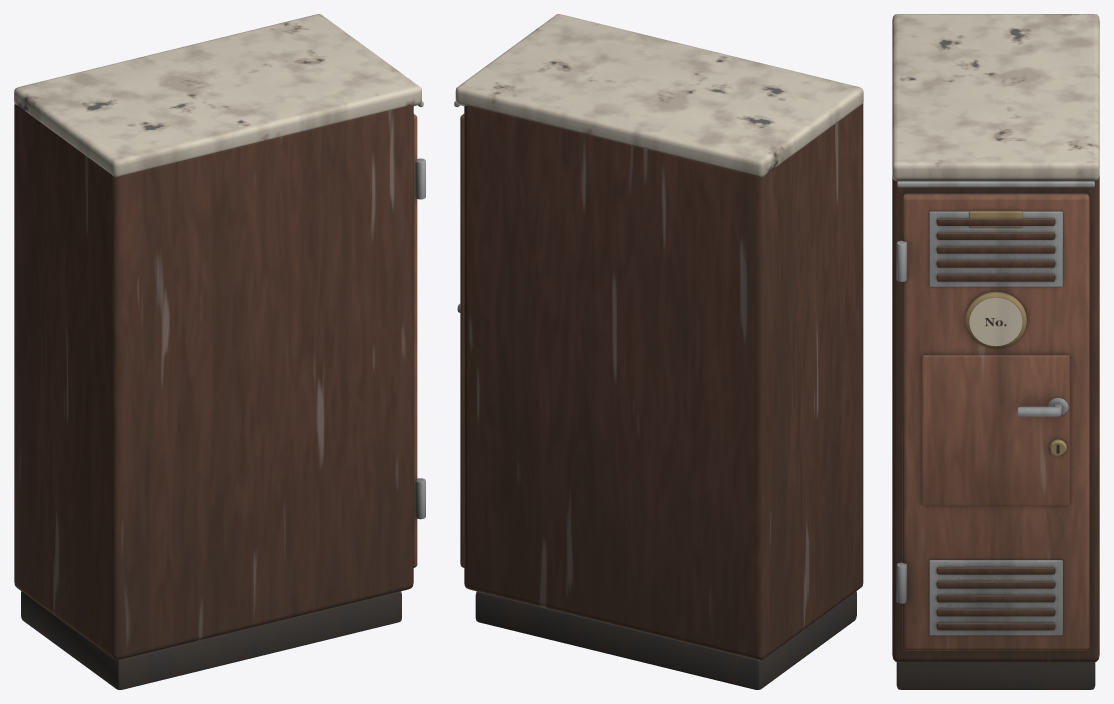
Rendered from SM_ClothesLocker_01.fbx.
3 views of the same model, side by side, from view 1: azimuth 30°, elevation 25°; view 2: azimuth 150°, elevation 25°; view 3: azimuth 270°, elevation 25° (orthographic).
Parts seen in each view (by area): view 1: SM_ClothesLocker_01; view 2: SM_ClothesLocker_01; view 3: SM_ClothesLocker_01.
Boxes of the visible parts, x1=… form: SM_ClothesLocker_01: x1=14, y1=14, x2=425, y2=689; SM_ClothesLocker_01: x1=454, y1=14, x2=863, y2=689; SM_ClothesLocker_01: x1=892, y1=14, x2=1099, y2=689.
Size of what is drawn, in the model's own units: 63.8 by 100 by 35.
Materials: 1 (1 with a texture image).
